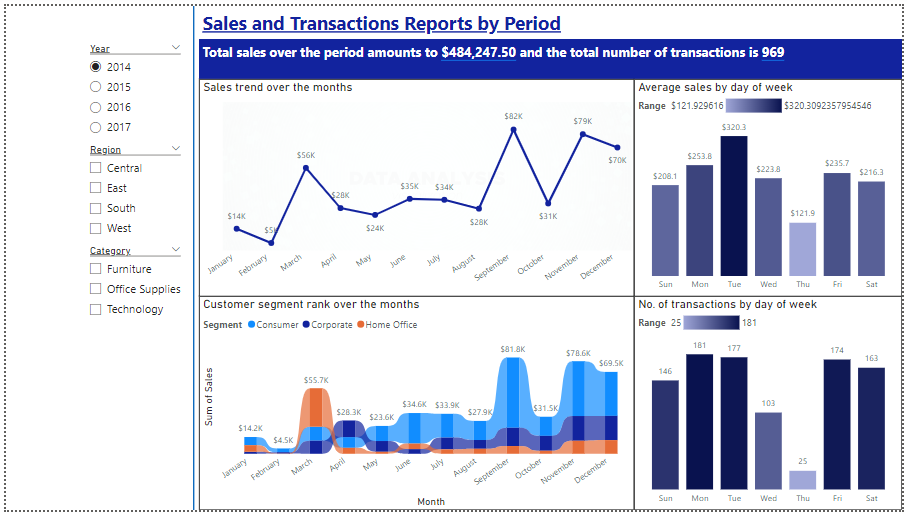

This screenshot's page, from the dashboard's own definition file:
{"tool":"powerbi","page":{"name":"Periodic Report","canvas":[1280,720],"ordinal":0},"visuals":[{"type":"shape","box":[262,0,13.4,720.6],"z":0},{"type":"textbox","box":[275.5,0,687,47],"z":1000},{"type":"textbox","box":[275.5,47,1004.5,57.1],"z":2000},{"type":"lineChart","title":"Sales trend over the months","fields":{"Category":["Orders.Order Date.Variation.Date Hierarchy.Month"],"Y":["Sum(Orders.Sales)"]},"box":[275.5,104.1,621.5,310.8],"z":3000},{"type":"ribbonChart","title":"Customer segment rank over the months","fields":{"Category":["Orders.Order Date.Variation.Date Hierarchy.Month"],"Y":["Sum(Orders.Sales)"],"Series":["Orders.Segment"]},"box":[275.5,414.9,621.5,305.7],"z":4000},{"type":"columnChart","title":"Average sales by day of week","fields":{"Category":["Orders.Day Name"],"Y":["Avg(Orders.Sales)"]},"box":[897,104.1,383,310.8],"z":5000},{"type":"columnChart","title":"No. of transactions by day of week","fields":{"Category":["Orders.Day Name"],"Y":["Count(Orders.Order ID)"]},"box":[897,414.9,383,305.7],"z":6000},{"type":"slicer","fields":{"Values":["Orders.Order Date.Variation.Date Hierarchy.Year"]},"box":[107.5,47,154.5,144.5],"z":7000},{"type":"slicer","fields":{"Values":["Orders.Region"]},"box":[107.5,191.5,154.5,144.5],"z":8000},{"type":"slicer","fields":{"Values":["Orders.Category"]},"box":[107.5,336,154.5,144.5],"z":9000}]}

Visuals, with their boxes in screenshot pixels (x1, y1, x2, y2), scaled from the page's 1280x720 canvas onto the 907x517 screenshot:
shape: <box>186,0,195,516</box>
textbox: <box>195,0,682,34</box>
textbox: <box>195,34,906,75</box>
"Sales trend over the months" lineChart: <box>195,75,636,298</box>
"Customer segment rank over the months" ribbonChart: <box>195,298,636,516</box>
"Average sales by day of week" columnChart: <box>636,75,906,298</box>
"No. of transactions by day of week" columnChart: <box>636,298,906,516</box>
slicer - Orders.Order Date.Variation.Date Hierarchy.Year: <box>76,34,186,138</box>
slicer - Orders.Region: <box>76,138,186,241</box>
slicer - Orders.Category: <box>76,241,186,345</box>
